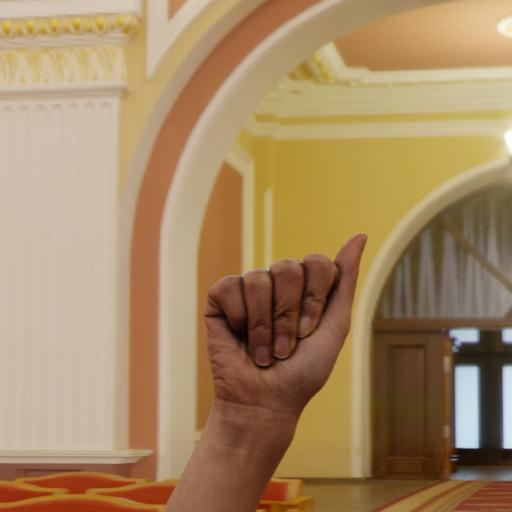A: (199, 230, 370, 412)
